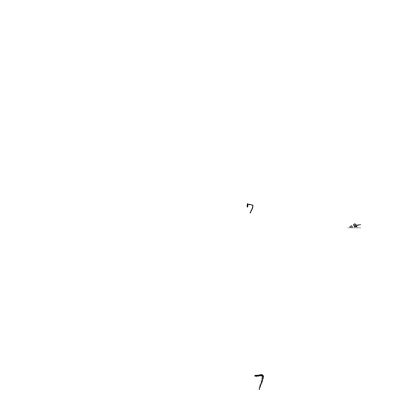1: (135, 239, 219, 323)
2: (300, 140, 328, 168)
4: (122, 146, 206, 230)
5: (283, 164, 395, 276)
8: (250, 110, 278, 138)
Ankle_boot: (185, 55, 241, 111), (71, 107, 113, 149)
Shirt: (29, 244, 85, 300)
Sneaker: (147, 379, 175, 407)
